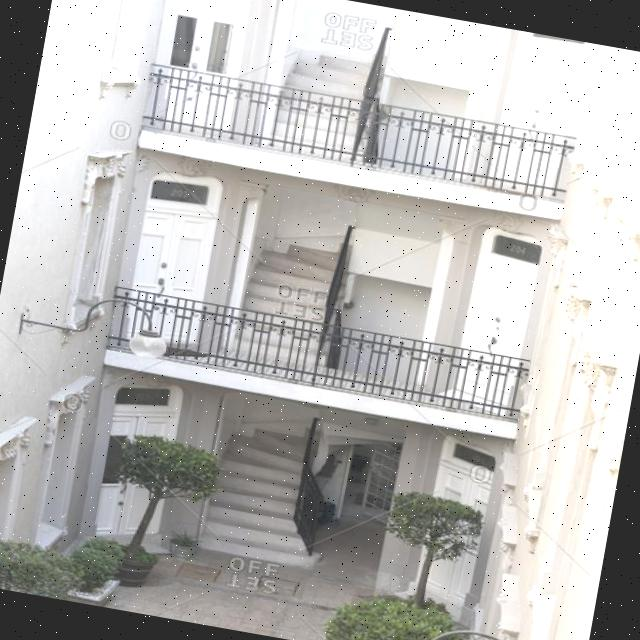stairs: (192, 418, 342, 570), (225, 233, 352, 384), (266, 46, 388, 166)
